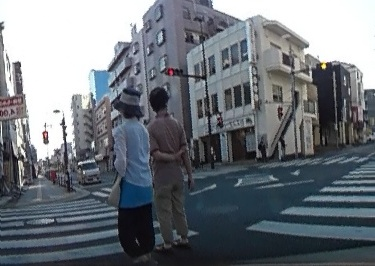person: (112, 86, 160, 264), (145, 86, 193, 248), (259, 132, 267, 161)
